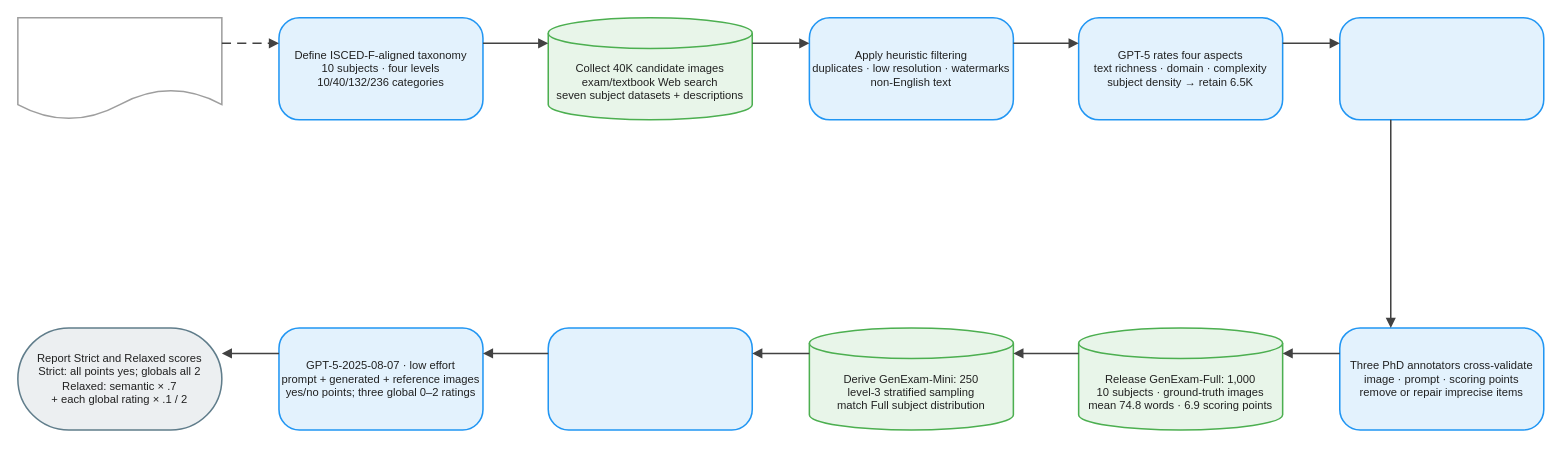
Image size: 1563x449. Some labels were removed from this diagram. Each missing label, with the centre of its shape:
Generate one image per prompt each model's default T2I setup run Full or Mini: (x=650, y=378)
GPT-5 drafts exam prompts atomic yes/no scoring questions weights sum to 1: (x=1441, y=68)
Primary evidence arXiv:2509.14232v5 repo 6f324dd1 · data 0782259d: (x=119, y=68)
